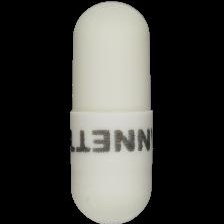0527-1632: (0, 0, 224, 224)
